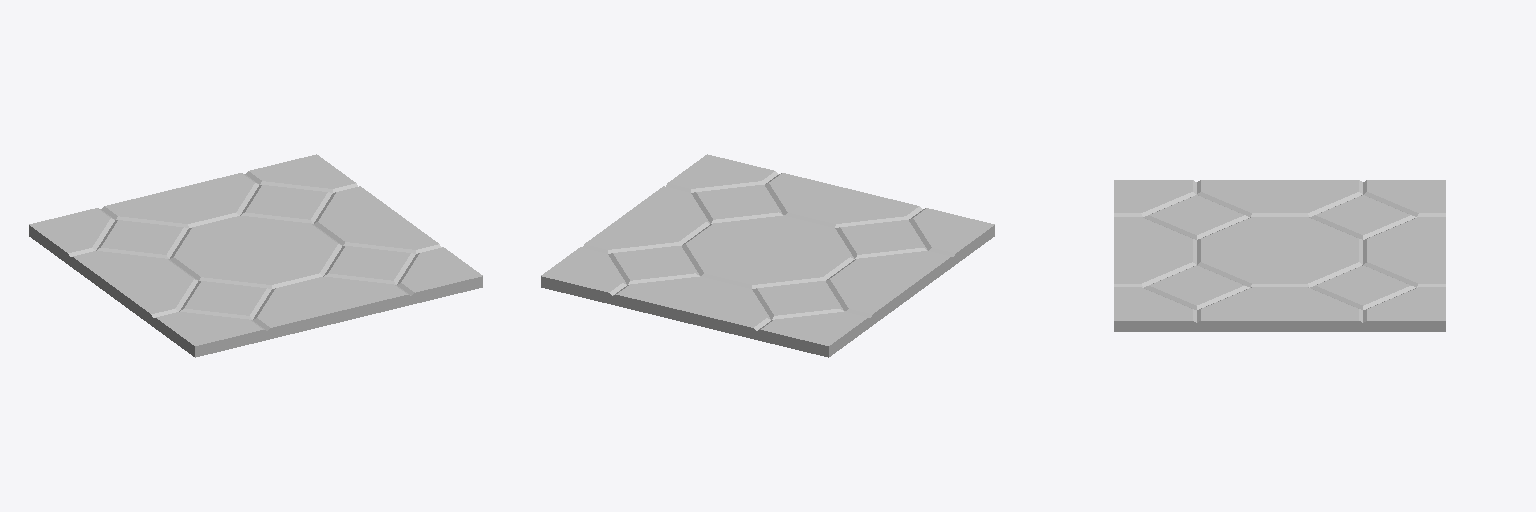
The model's file is floor_tile_large.obj.
The picture shows the model from 3 angles: view 1: azimuth 30°, elevation 25°; view 2: azimuth 150°, elevation 25°; view 3: azimuth 270°, elevation 25°; orthographic projection.
Visible parts, largest first — view 1: floor_tile_large_Cube.13698; view 2: floor_tile_large_Cube.13698; view 3: floor_tile_large_Cube.13698.
Part boxes in pixels (left/top/right/bottom): floor_tile_large_Cube.13698: left=29, top=154, right=482, bottom=357; floor_tile_large_Cube.13698: left=541, top=154, right=994, bottom=357; floor_tile_large_Cube.13698: left=1114, top=180, right=1445, bottom=331.
Size of the model in its own units: 4 by 0.15 by 4.